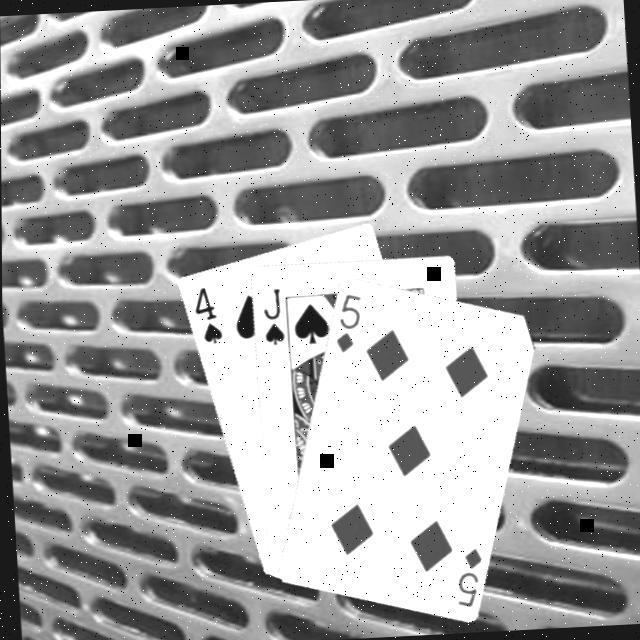4S: (186, 284, 224, 349)
5D: (448, 546, 486, 612), (328, 292, 364, 358)
JS: (257, 287, 285, 350)
